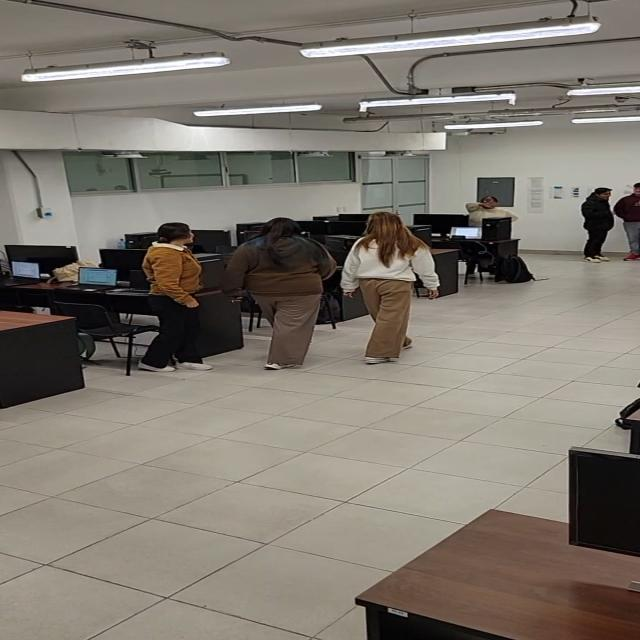Persona: (232, 216, 331, 364), (132, 222, 210, 360), (354, 209, 417, 365), (580, 186, 618, 263), (451, 188, 521, 227)
